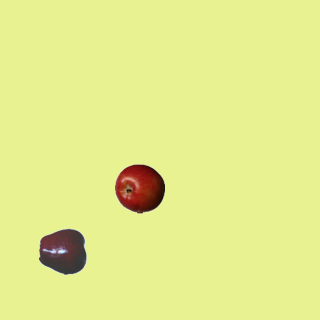Apple Braeburn: (114, 163, 164, 213)
Apple Red Delicious: (38, 226, 88, 276)
